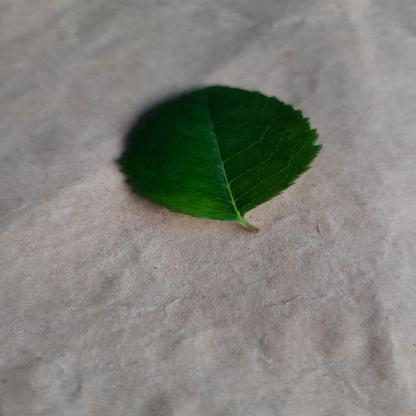normal: (102, 86, 328, 224)
